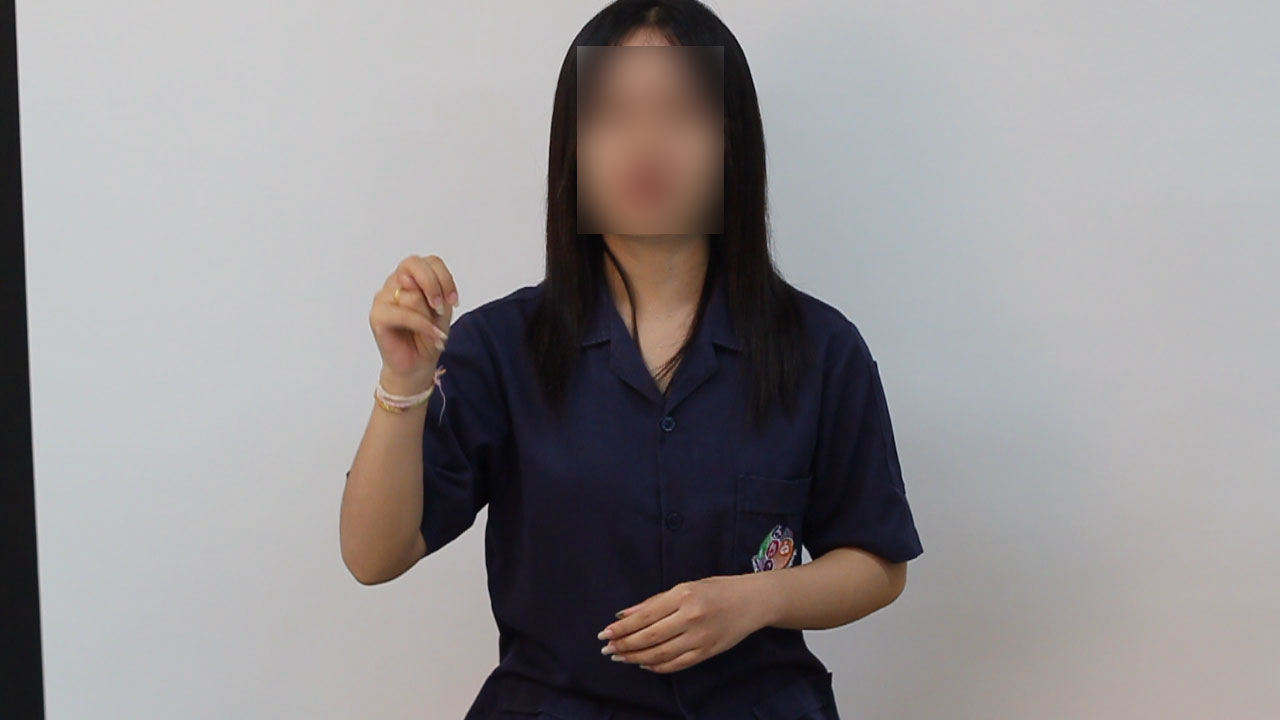nor: (352, 237, 470, 384)
